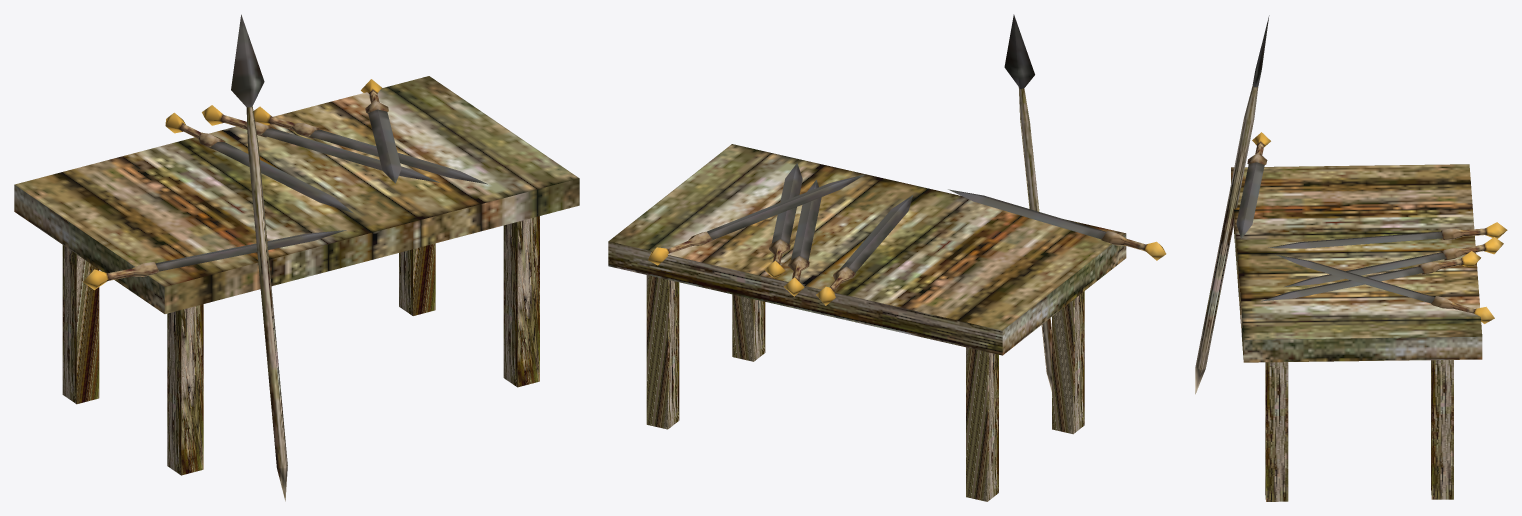
File: eyecandy_iber_weapons_table.dae
3 renders of one model, left to right at view 1: azimuth 30°, elevation 25°; view 2: azimuth 150°, elevation 25°; view 3: azimuth 270°, elevation 25°, orthographic. The views are drawn at different scales.
Parts seen in each view (by area): view 1: Gladius04; view 2: Gladius04; view 3: Gladius04.
Part boxes in pixels (bbox=[...]): Gladius04: bbox=[14, 14, 579, 501]; Gladius04: bbox=[608, 14, 1166, 501]; Gladius04: bbox=[1195, 15, 1507, 501].
Bounding box in the file's own units: 4.38 × 2.91 × 3.93.
